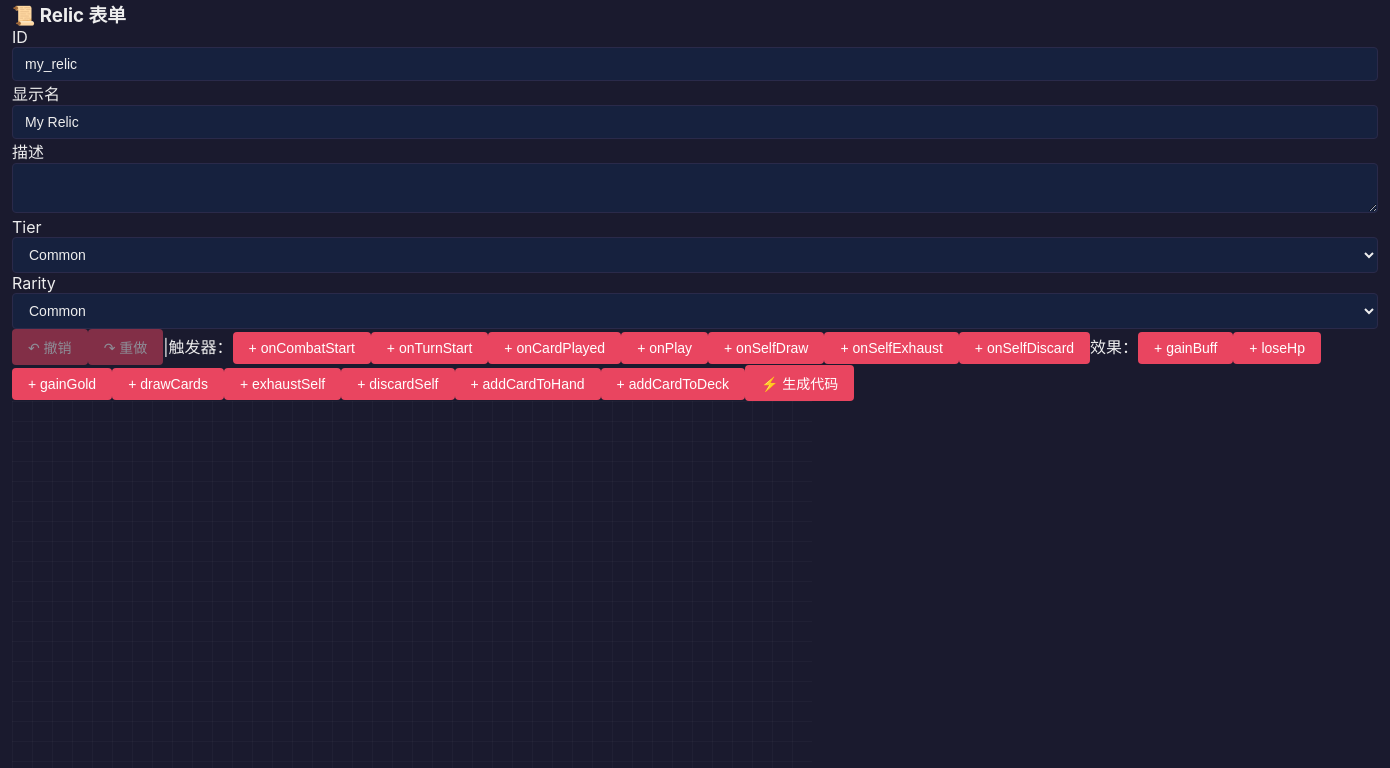
Scenario: RelicEditor undo/redo UI (v0.7) › 加节点后撤销按钮可用，点击撤销后节点消失
This screenshot has width=1390, height=768.
Click the button with test id "add-trigger-onCombatStart": [302, 348] box [233,332,371,364]
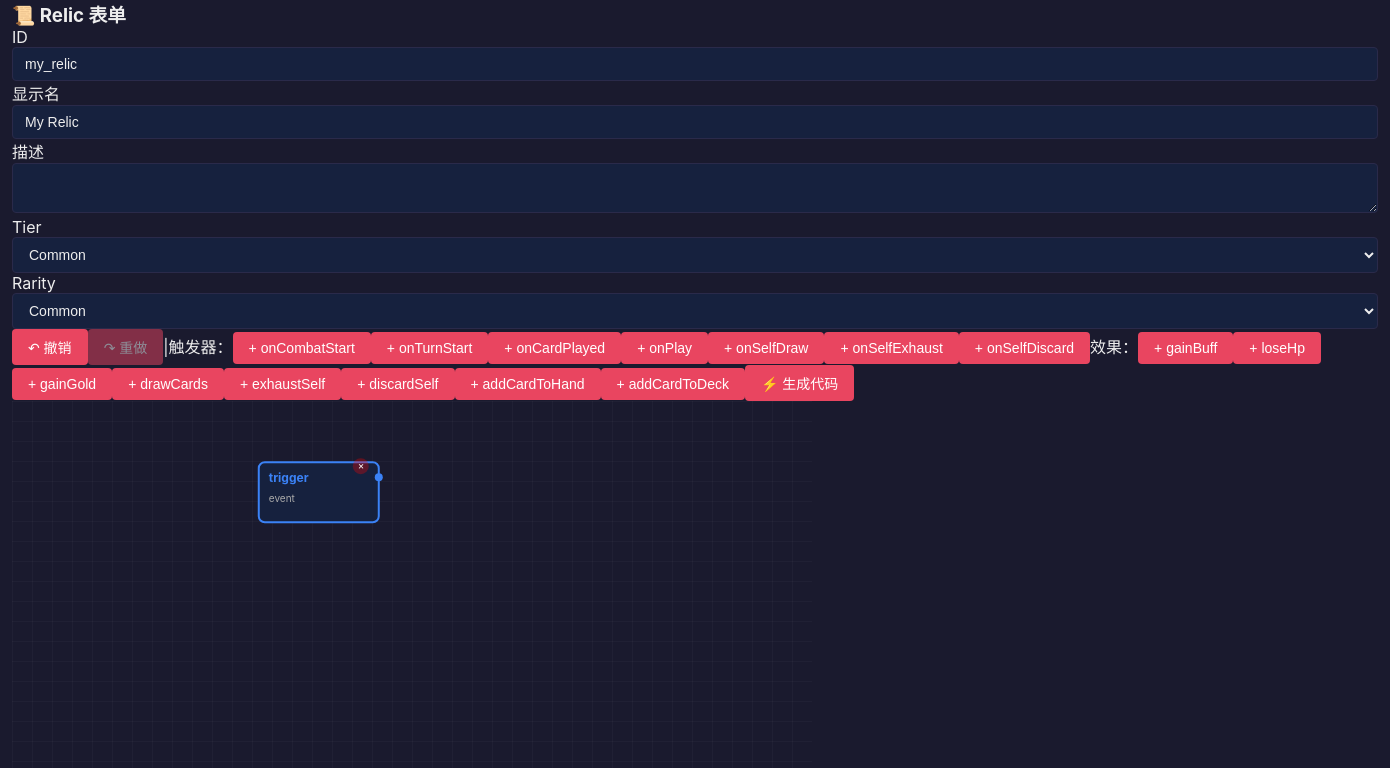
Expected: the button with test id "undo" is enabled
Click the button with test id "undo": [50, 347] box [12,329,88,365]
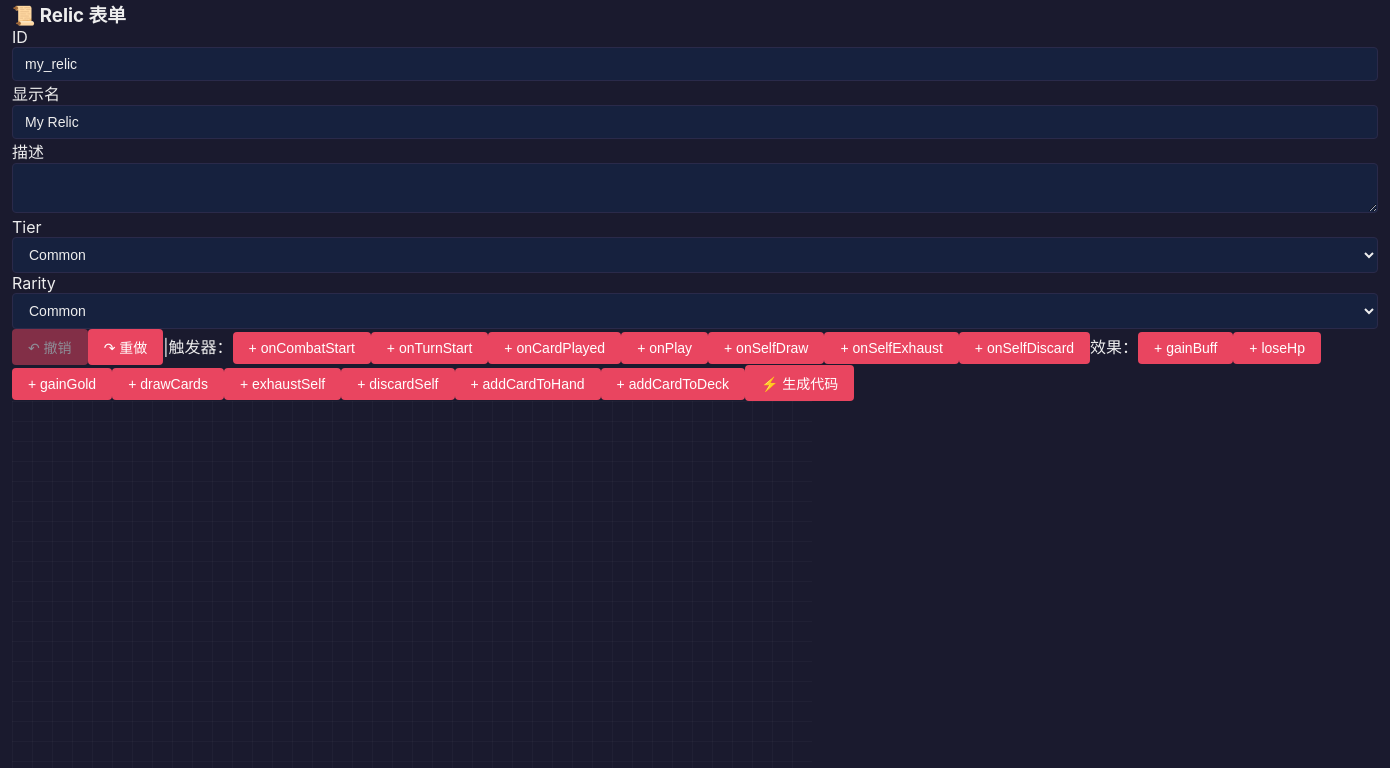
Expected: the button with test id "redo" is enabled, [88,329,163,365]
